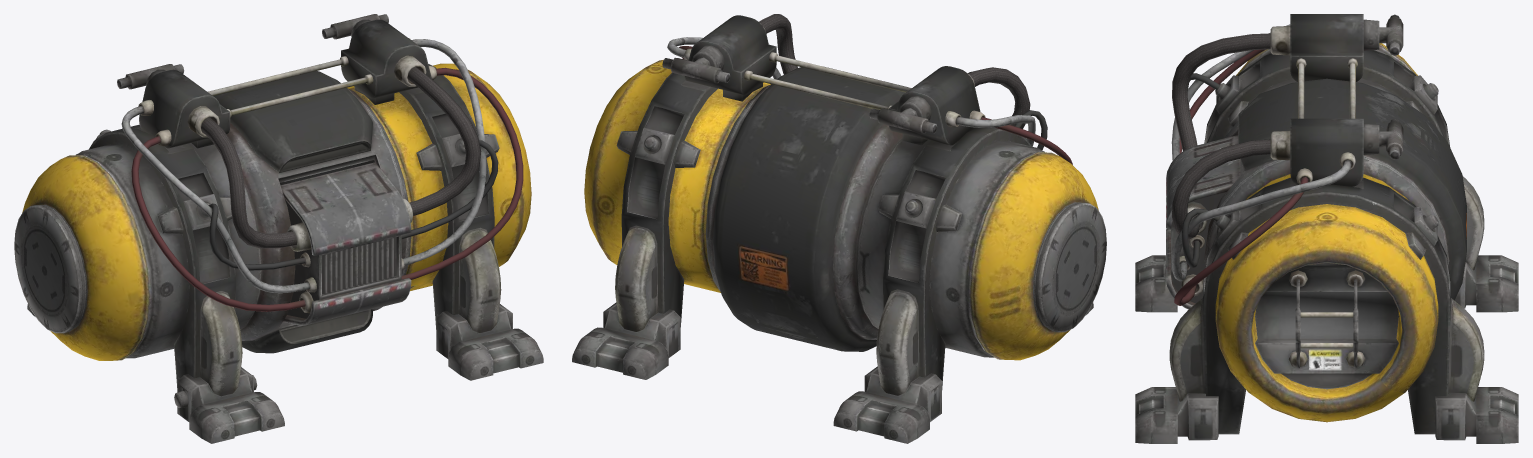
File: scifi_tank_doodad-opt.glb
The picture shows the model from 3 angles, left to right: view 1: azimuth 30°, elevation 25°; view 2: azimuth 150°, elevation 25°; view 3: azimuth 270°, elevation 25°; orthographic projection. The views are drawn at different scales.
Visible parts, largest first — view 1: defaultMaterial; view 2: defaultMaterial; view 3: defaultMaterial.
Boxes of the visible parts, x1=… form: defaultMaterial: x1=14, y1=14, x2=543, y2=443; defaultMaterial: x1=572, y1=14, x2=1106, y2=443; defaultMaterial: x1=1135, y1=14, x2=1518, y2=443.
Size of the model in its own units: 2 by 1.14 by 1.37.
1 material, 1 textured.
